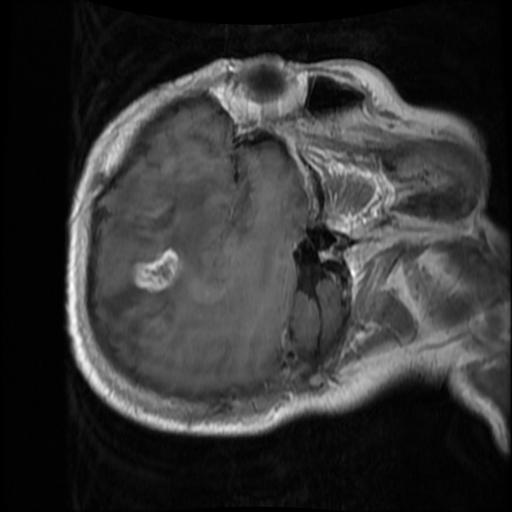glioma: (128, 249, 179, 291)
